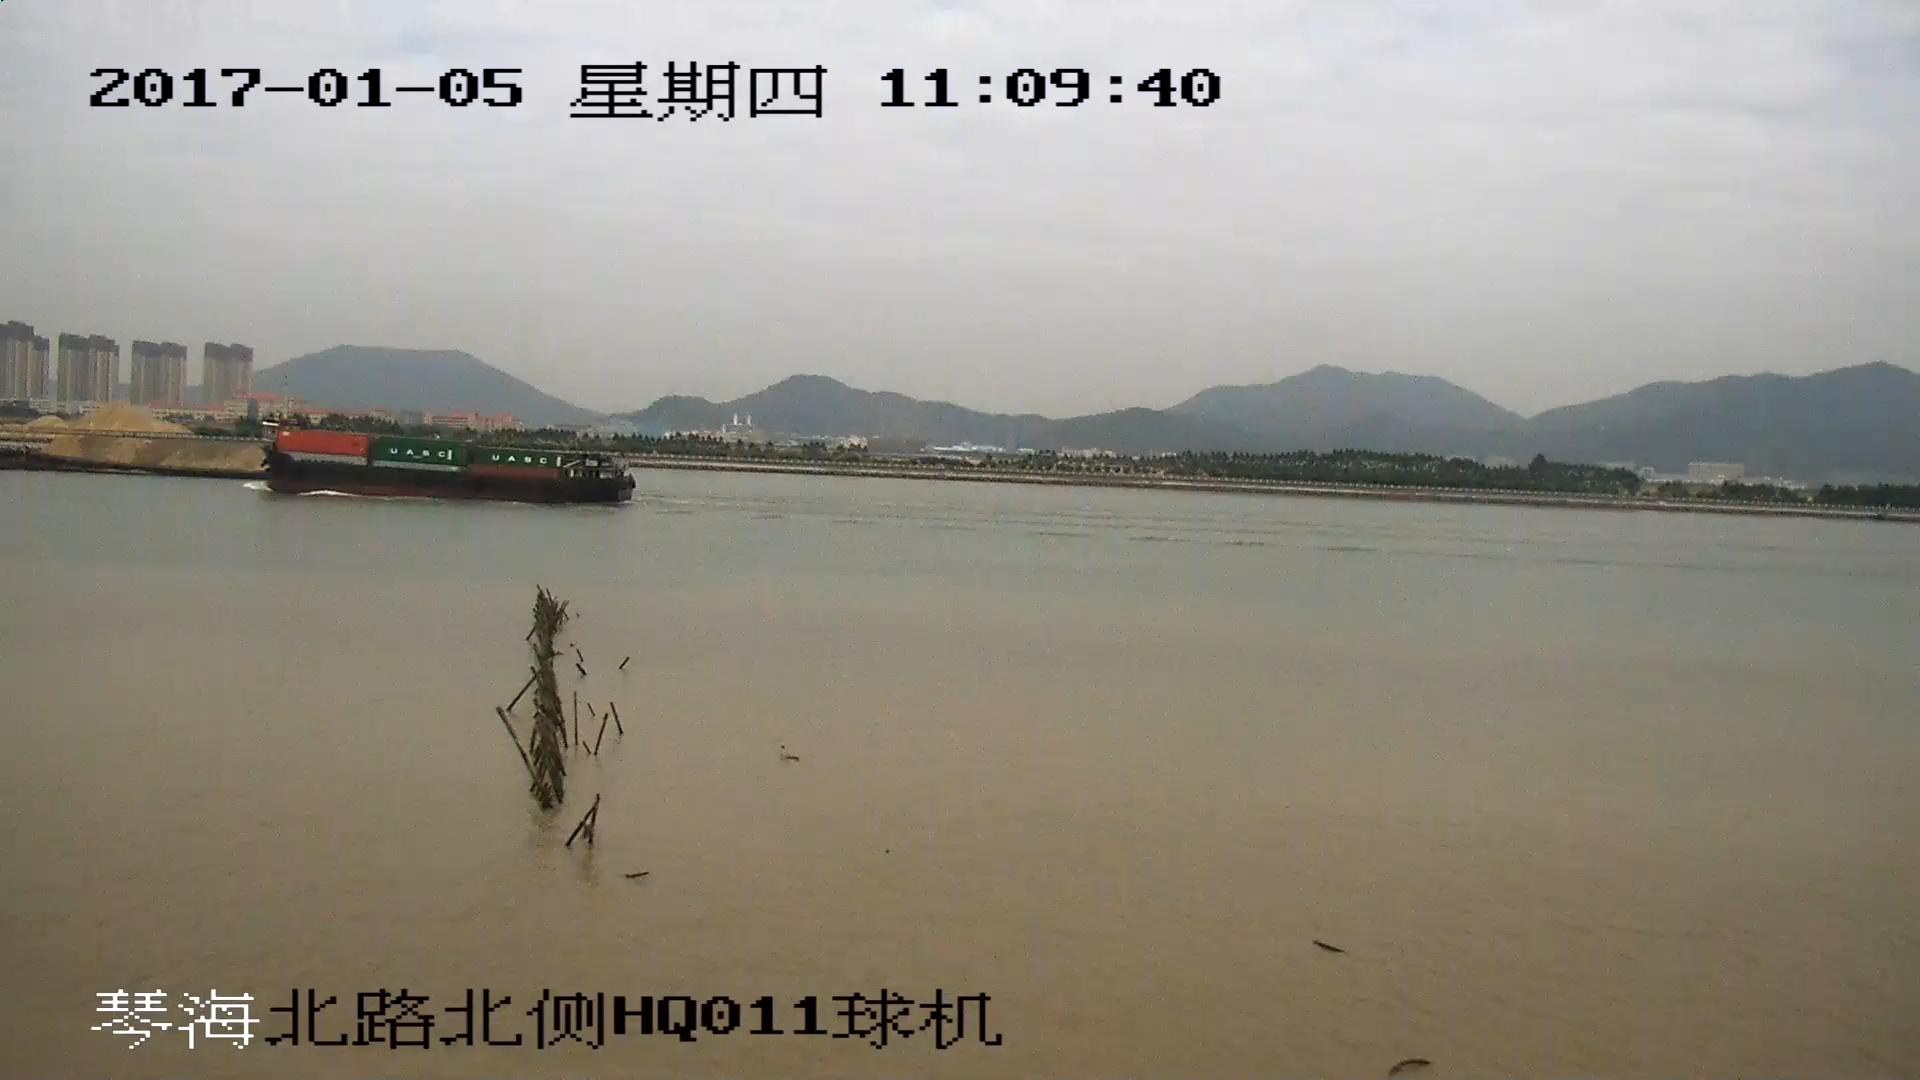container ship: (264, 415, 637, 498)
ore carrier: (1, 416, 261, 476)
